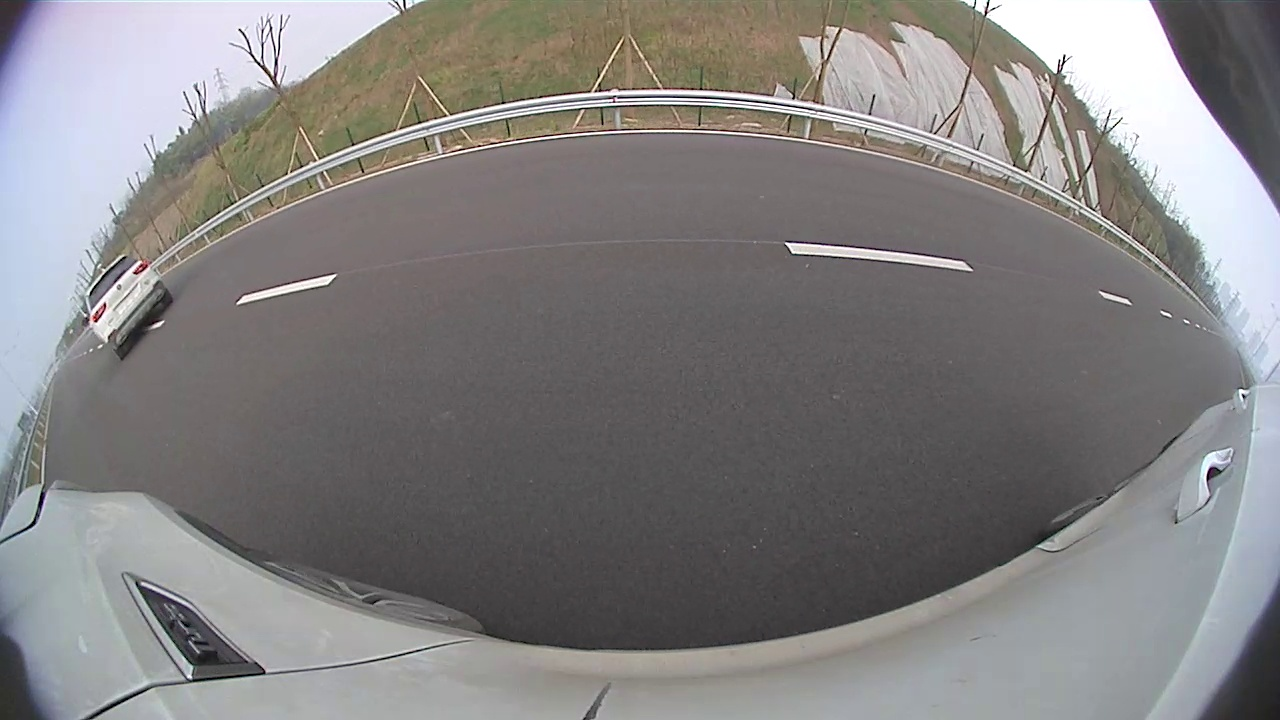car: (85, 253, 173, 360)
